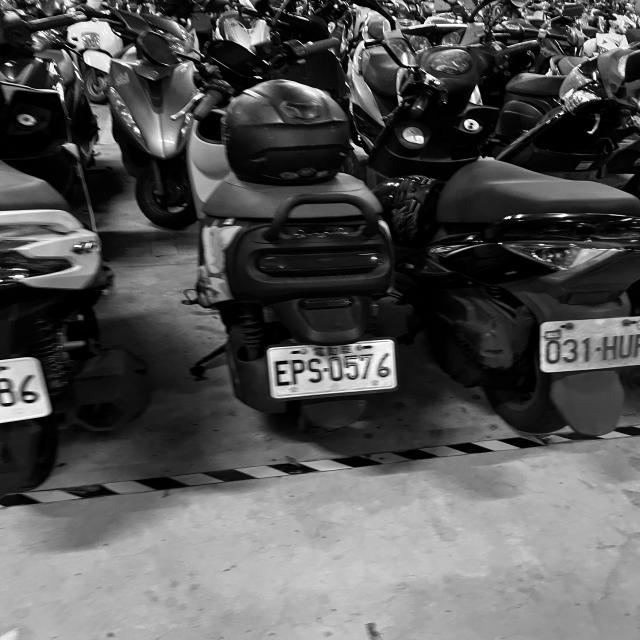-: (595, 344, 603, 354), (322, 367, 328, 372)
0: (544, 340, 561, 364), (330, 356, 344, 382)
1: (582, 337, 592, 362)
3: (562, 338, 580, 364)
5: (344, 354, 359, 379)
6: (16, 374, 44, 406), (375, 351, 391, 379)
7: (358, 352, 372, 380)
E: (274, 359, 290, 386)
H: (602, 336, 618, 360)
P: (290, 360, 306, 385)
S: (306, 358, 324, 383)
U: (618, 334, 633, 358)
plate: (268, 348, 398, 392)
